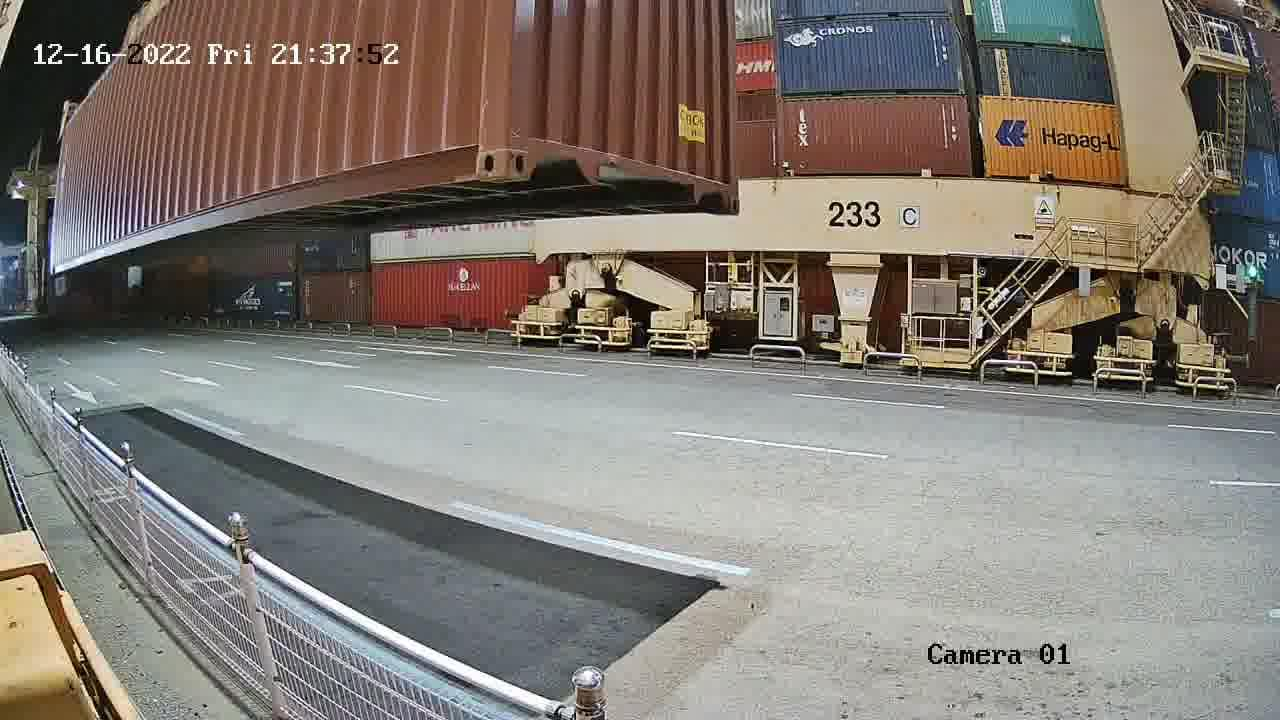Hole_L: (505, 105, 561, 182)
Hole_R: (438, 102, 507, 185), (701, 146, 743, 211)
